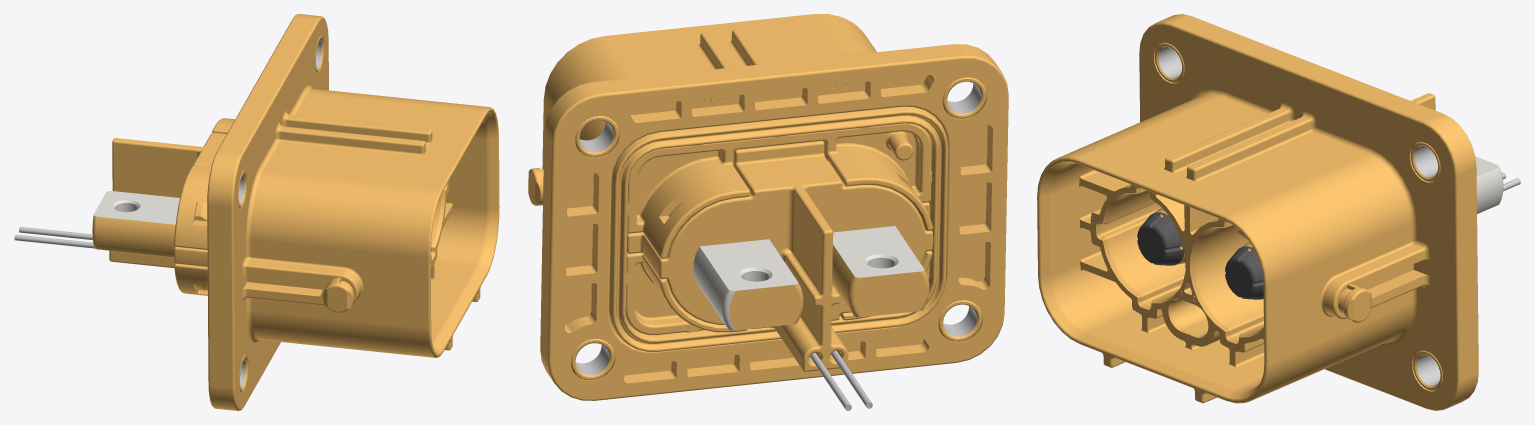
File: DLQ4-Z.glb
The picture shows the model from 3 angles, left to right: view 1: azimuth 30°, elevation 25°; view 2: azimuth 150°, elevation 25°; view 3: azimuth 270°, elevation 25°; orthographic projection. The views are drawn at different scales.
Visible parts, largest first — view 1: DLQ4-Z v7; view 2: DLQ4-Z v7; view 3: DLQ4-Z v7.
Boxes of the visible parts, left/top/right/bottom form: DLQ4-Z v7: left=14, top=14, right=499, bottom=410; DLQ4-Z v7: left=528, top=14, right=1008, bottom=410; DLQ4-Z v7: left=1037, top=14, right=1520, bottom=410.
Bounding box in the file's own units: 9.64 × 6.32 × 9.51.
